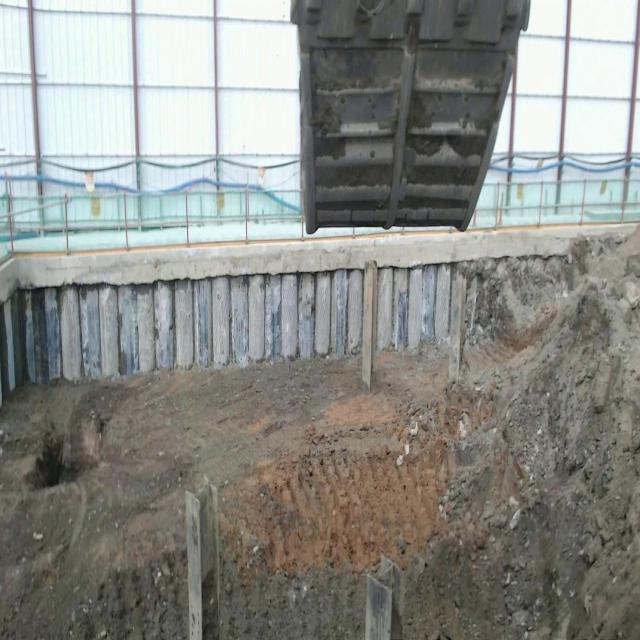red-sand: (0, 241, 640, 639)
